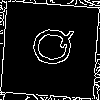Q: (24, 25, 75, 68)
